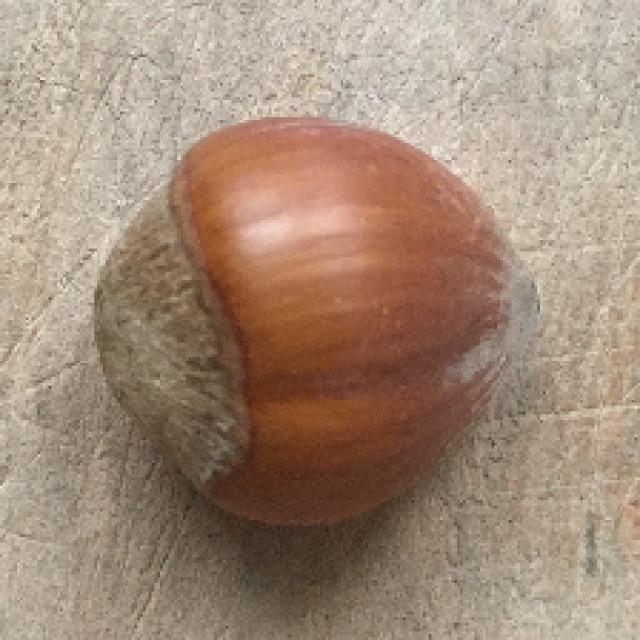QualityHazelnut: (92, 111, 538, 530)
